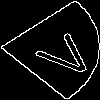V: (25, 25, 100, 82)
